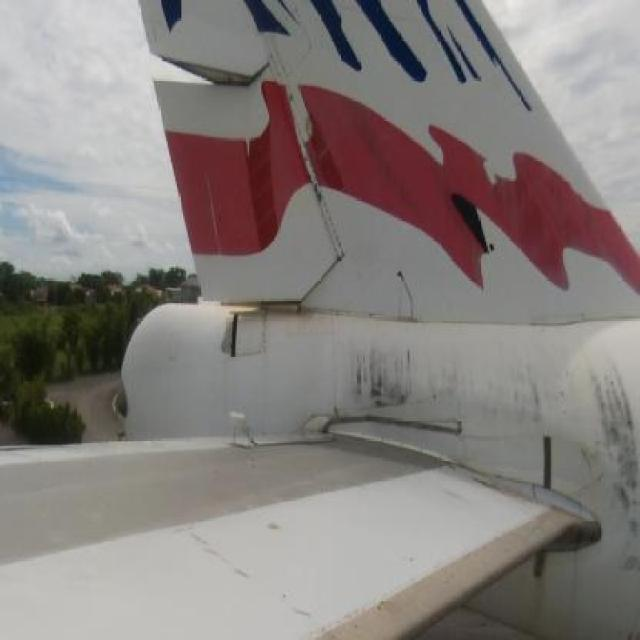Missing-Rivet: (314, 181, 346, 277), (294, 125, 326, 217)
Rust: (432, 356, 591, 467), (591, 348, 640, 586), (338, 328, 432, 426), (303, 150, 328, 219)
Scartch: (179, 520, 258, 611), (576, 430, 615, 487), (262, 505, 302, 560), (215, 305, 248, 369), (287, 594, 310, 624)
